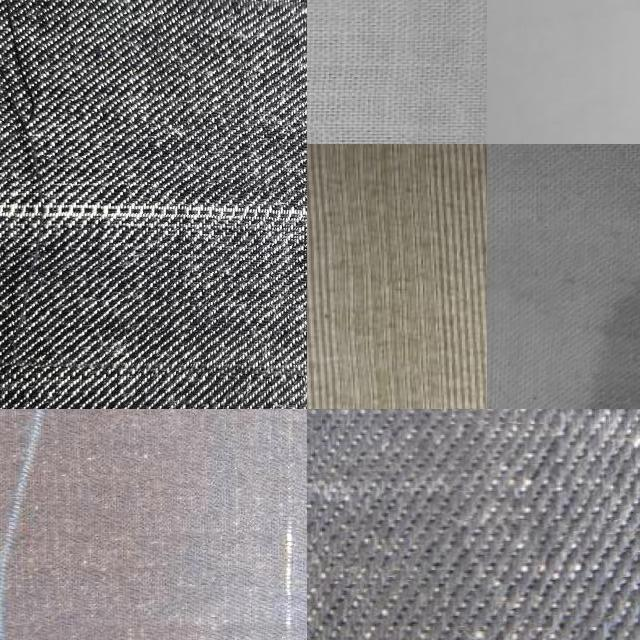stains: (170, 409, 307, 640)
